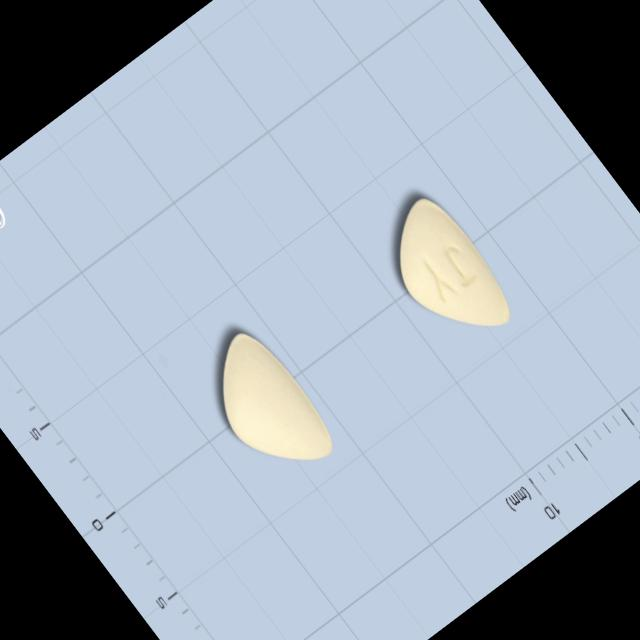Durova: (366, 186, 527, 362), (187, 321, 346, 494)
